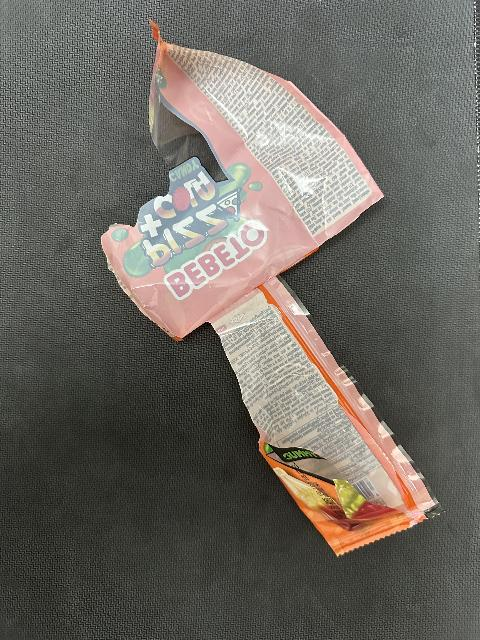Plastik: (117, 27, 444, 548)
